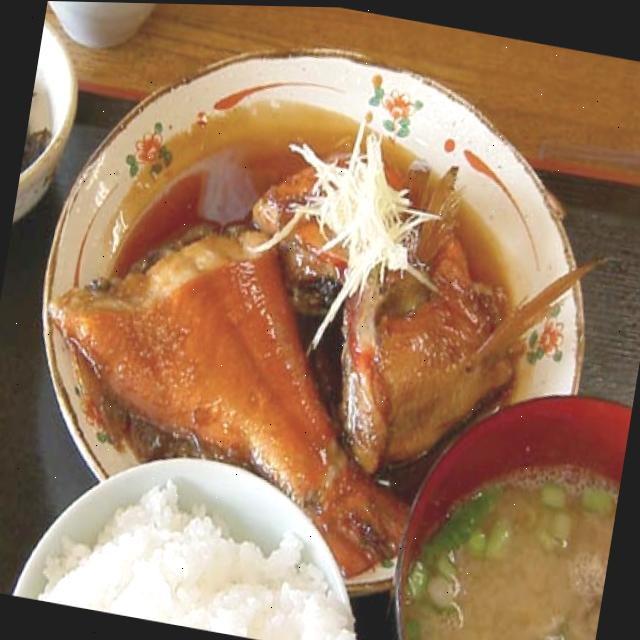熟制海鲜: (42, 97, 557, 590)
